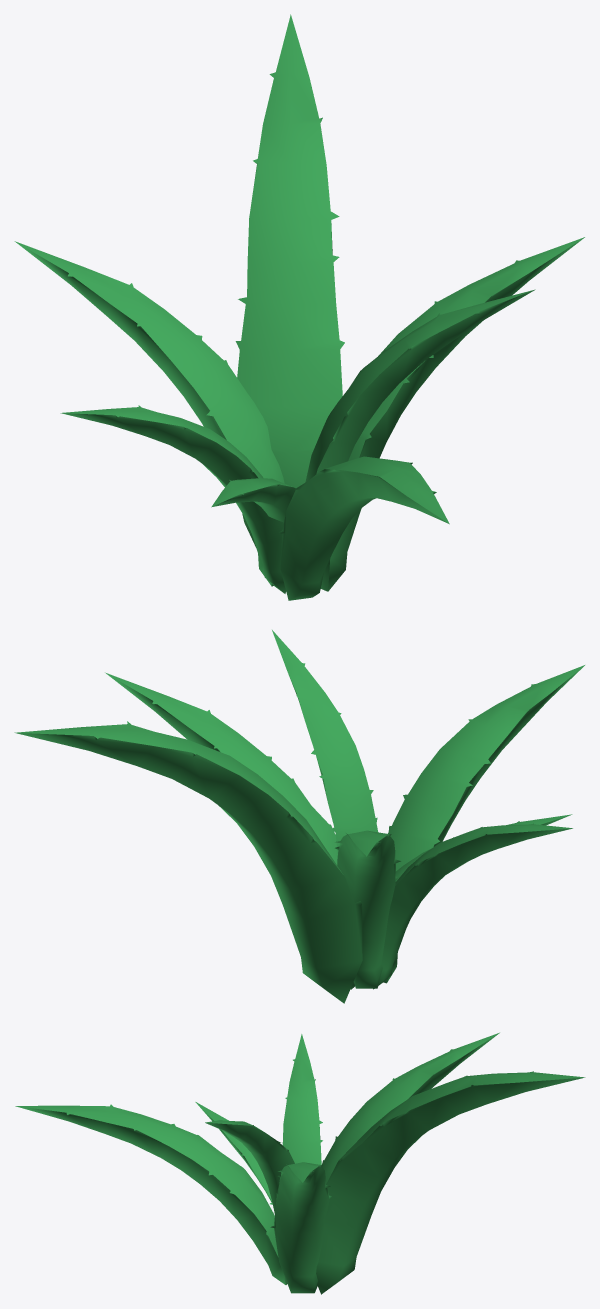
The model's file is aloe.obj.
3 renders of one model, top to bottom at view 1: azimuth 30°, elevation 25°; view 2: azimuth 150°, elevation 25°; view 3: azimuth 270°, elevation 25°, orthographic. The views are drawn at different scales.
Parts seen in each view (by area): view 1: Aloe..001_.007; view 2: Aloe..001_.007; view 3: Aloe..001_.007.
Boxes of the visible parts, x1=… form: Aloe..001_.007: x1=14, y1=14, x2=584, y2=600; Aloe..001_.007: x1=14, y1=630, x2=584, y2=1003; Aloe..001_.007: x1=15, y1=1032, x2=585, y2=1294.
Bounding box in the file's own units: 2.67 × 1.86 × 3.52.
